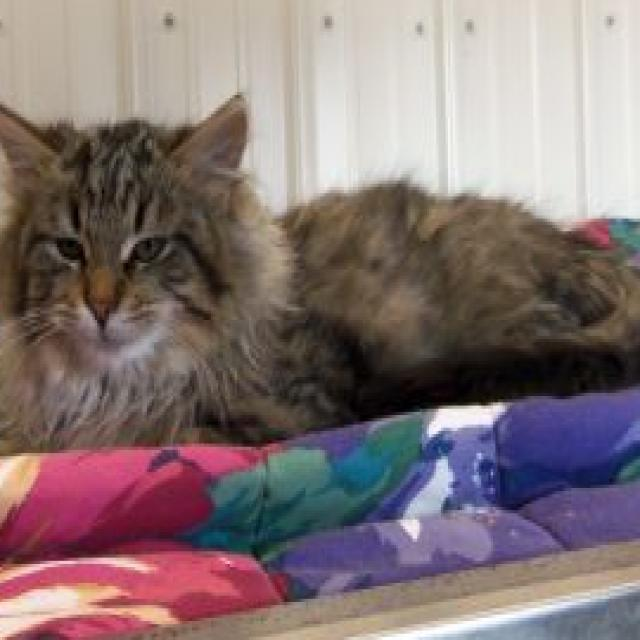Maine Coon: (0, 82, 640, 447)
